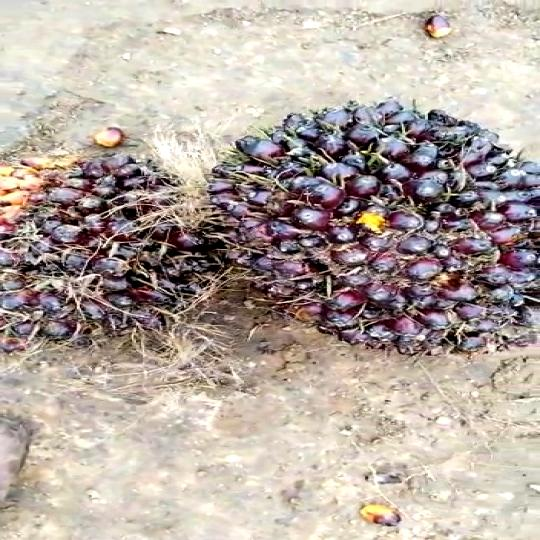kurang masak: (228, 88, 540, 365), (0, 130, 221, 349)
